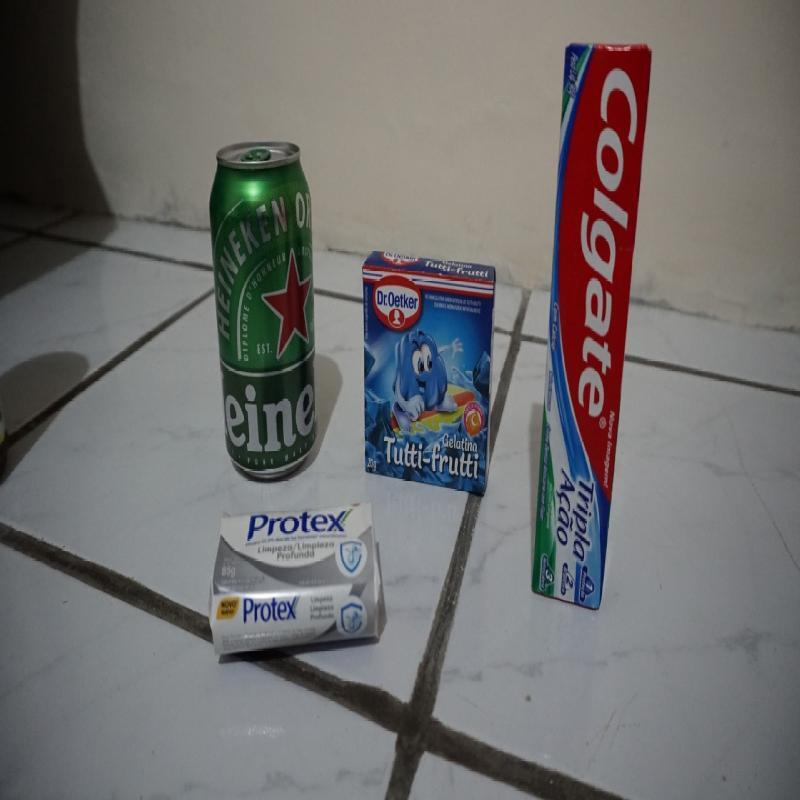Beer can: (210, 135, 320, 472)
Gelatine: (360, 245, 495, 494)
Soap: (210, 500, 386, 659)
Toothpaste: (532, 25, 652, 612)
